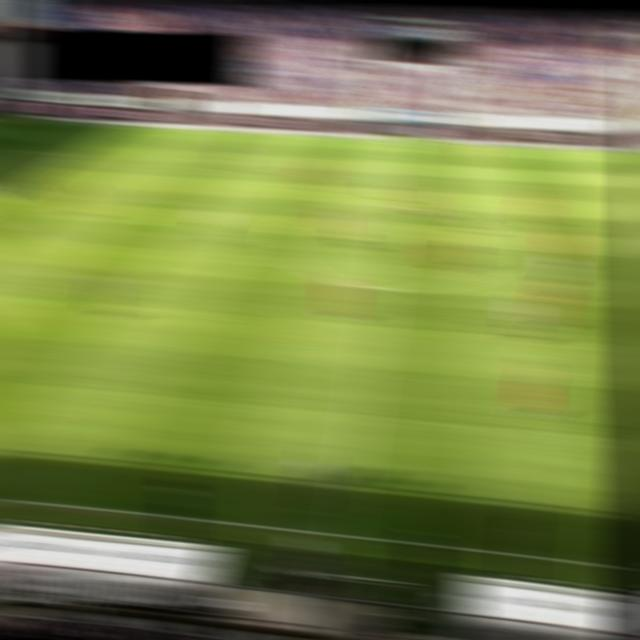bigarea_top_inner: (62, 149, 90, 161)
corner: (0, 114, 15, 124)
halfcircle_bottom: (369, 281, 398, 293)
halfcircle_top: (381, 199, 411, 211)
midline_bottom_intersection: (324, 526, 357, 544)
midline_top_intersection: (391, 135, 421, 148)
top_arc_area_intersection: (9, 180, 41, 196)
